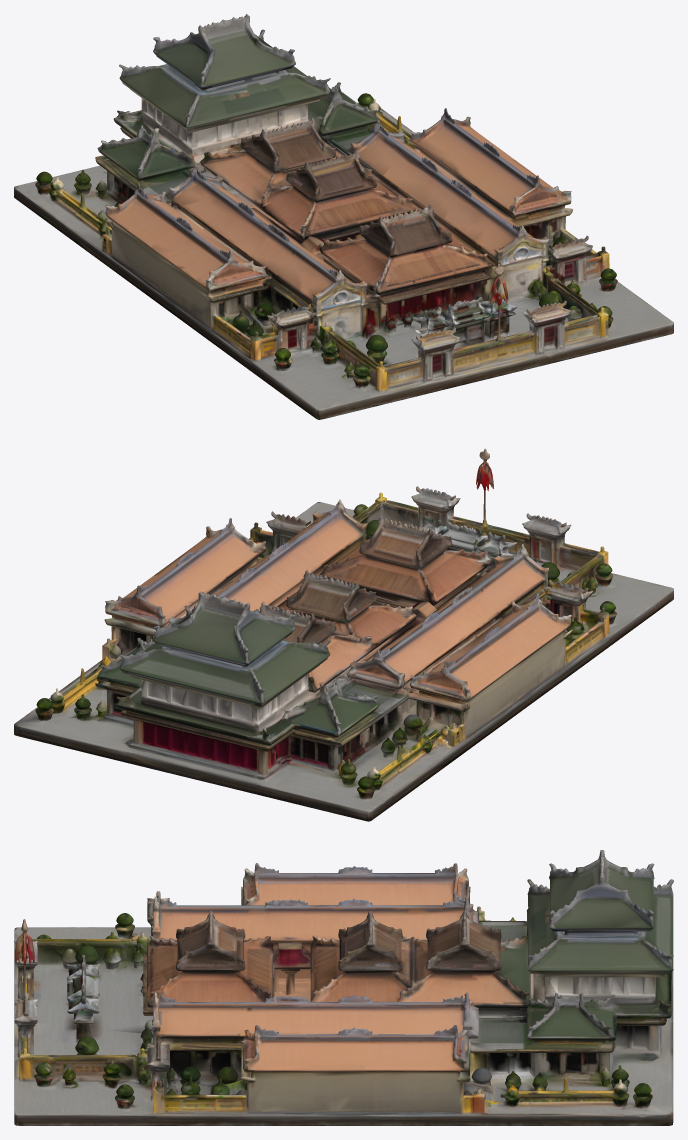
Rendered from langtaquanlevanduyet-v1.glb.
3 renders of one model, top to bottom at view 1: azimuth 30°, elevation 25°; view 2: azimuth 150°, elevation 25°; view 3: azimuth 270°, elevation 25°, orthographic. The views are drawn at different scales.
Visible parts, largest first — view 1: node_0; view 2: node_0; view 3: node_0.
Boxes of the visible parts, <box> form: node_0: <box>14,14,673,419</box>; node_0: <box>14,448,673,821</box>; node_0: <box>14,850,673,1125</box>.
Size of the model in its own units: 0.6713 by 0.277 by 0.9741.
Materials: 1 (1 with a texture image).
